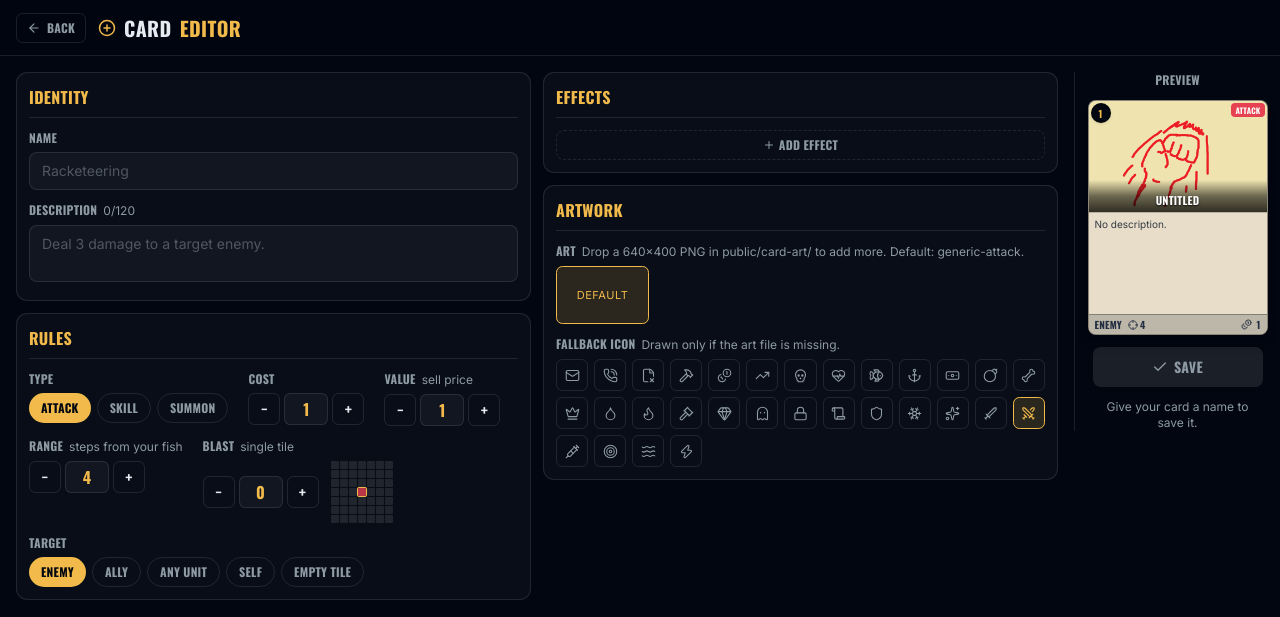
CardCreateScreen › summon effects › the picker lists each summon with its stats and previews the selected one
Click the button "Add Effect" at (800,145), box [556,130,1045,160]
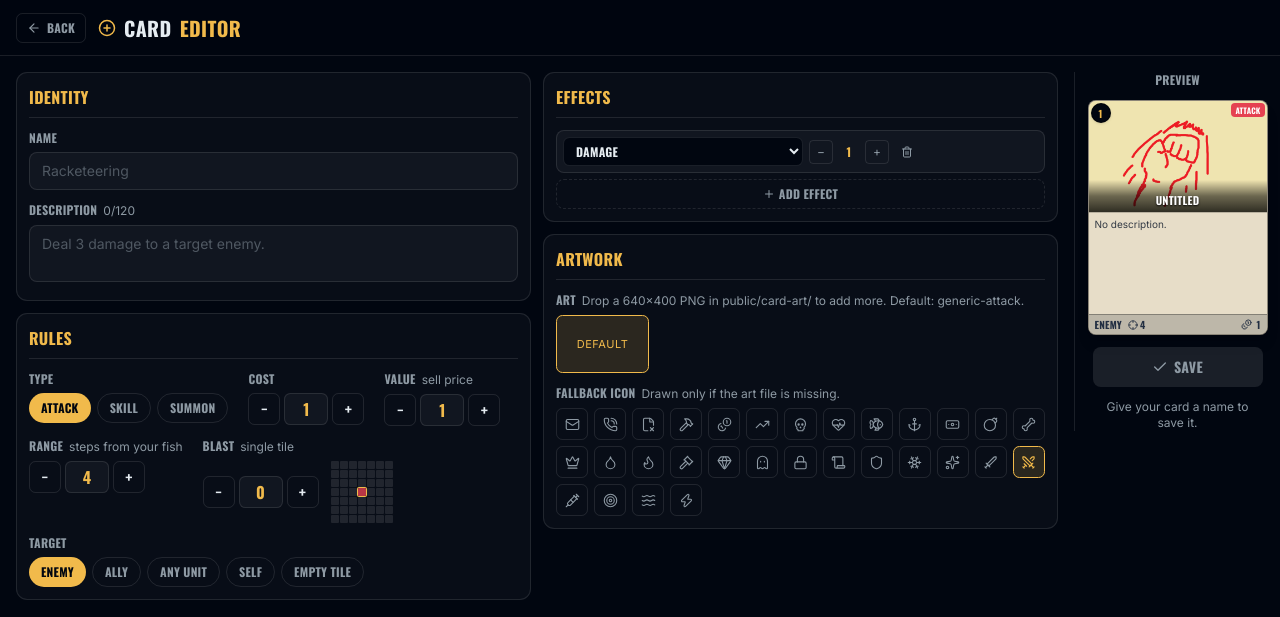
Select "Summon" in the dropdown named "effect 1 kind" at (683,152), box [563,137,803,166]
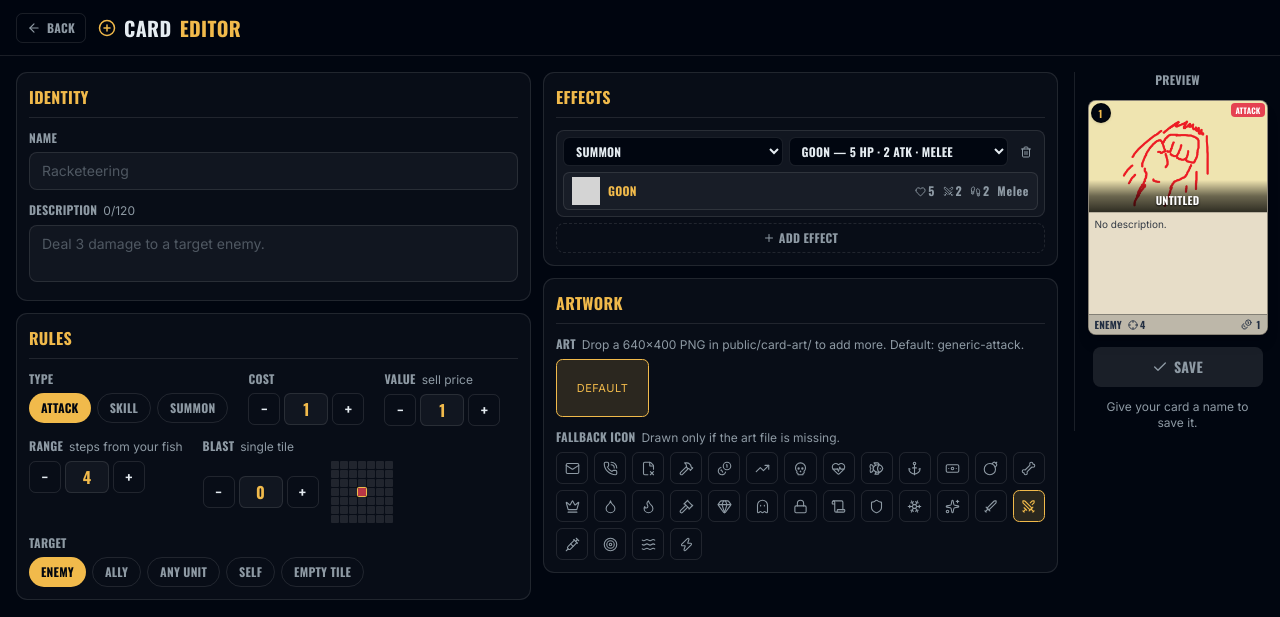
Select "Shark — 9 HP · 4 ATK · Ranged" in the dropdown named "effect 1 summon unit" at (898,152), box [788,137,1008,166]
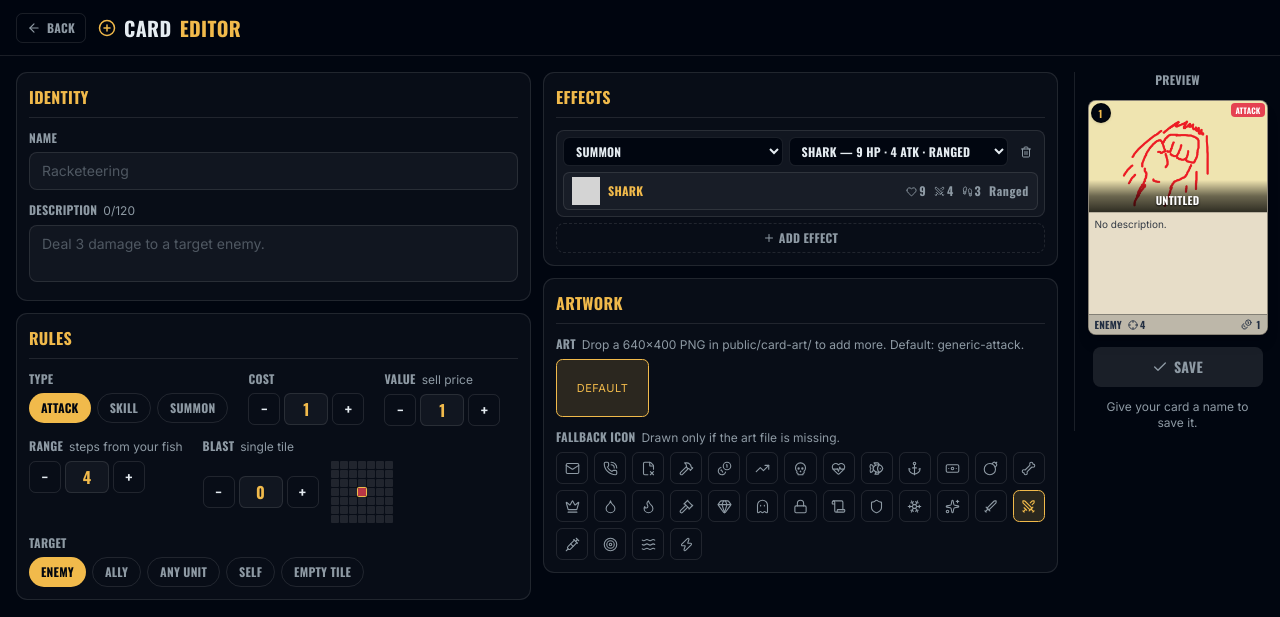
Check: the text "Shark" is shown, box [608,183,643,199]
Check: the element titled "HP" reads "9", box [919,182,926,199]
Check: the element titled "Attack" in the row of "Ranged" reads "4", box [947,182,954,199]
